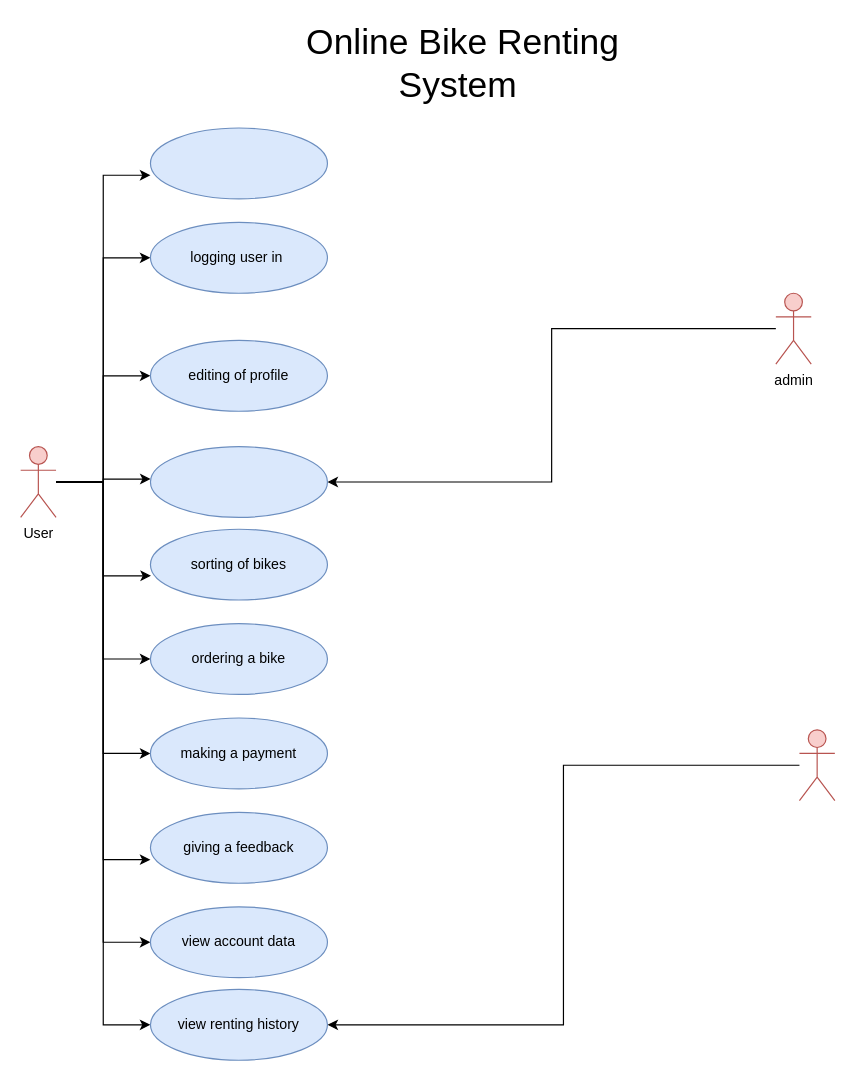
Some shapes in this 860 by 1081 pixel diagram are drawn without their labels. Each missing label, with the centre of its shape:
"helping a user" belongs at (x=238, y=481).
"registration of user" belongs at (x=238, y=163).
"system" belongs at (x=816, y=765).
